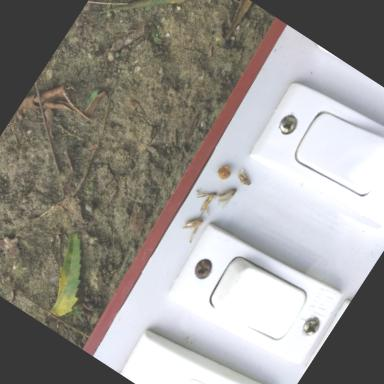pbw: (186, 182, 222, 218), (172, 211, 204, 244), (212, 184, 237, 210), (233, 168, 256, 190)
